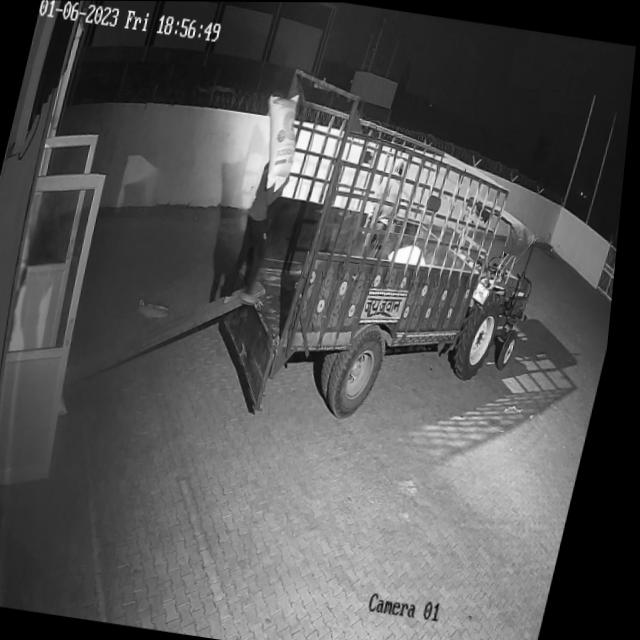sack: (250, 91, 311, 194)
